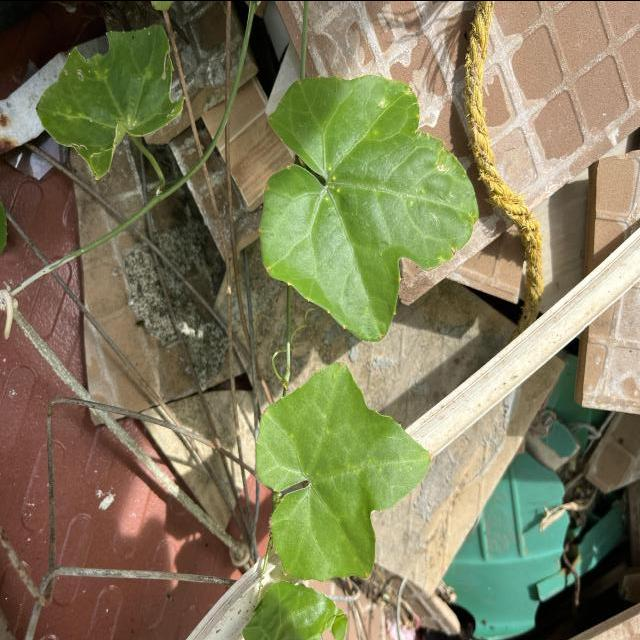Coccinia grandis: (258, 72, 480, 343), (254, 360, 434, 583)
